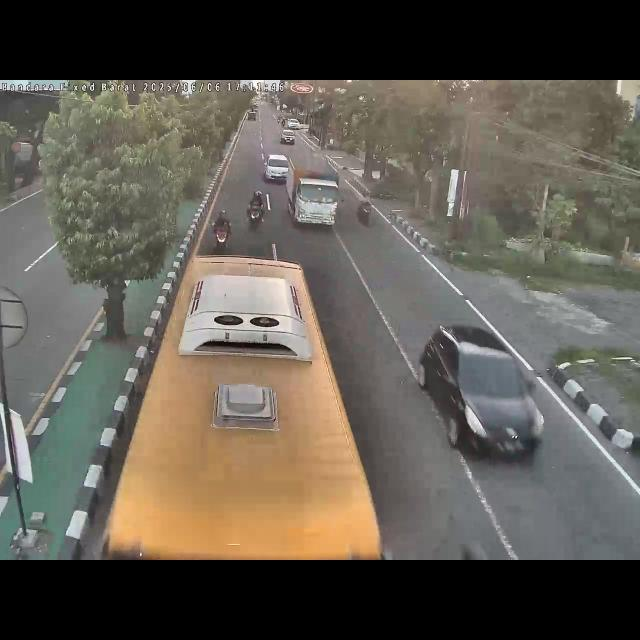Bis: (96, 250, 392, 560)
Mobil: (414, 322, 554, 466)
Motor: (210, 208, 234, 254), (262, 152, 292, 184), (247, 190, 267, 232), (357, 190, 373, 228)
Truk: (285, 155, 343, 229)
